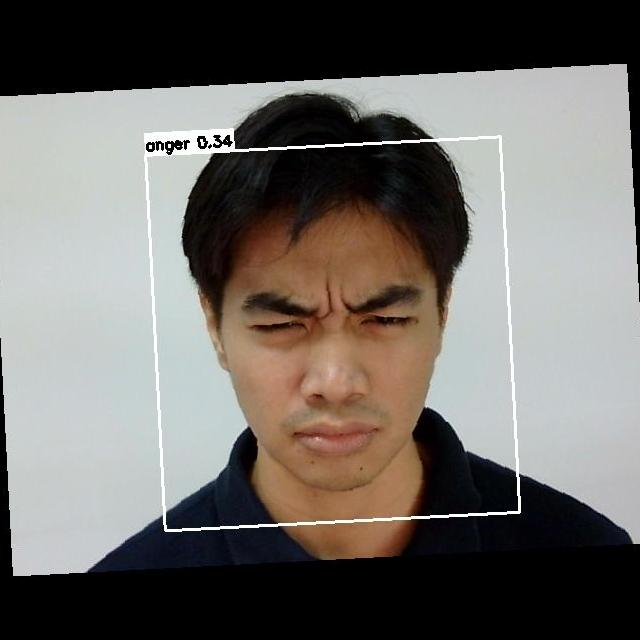Angry: (214, 255, 457, 465)
